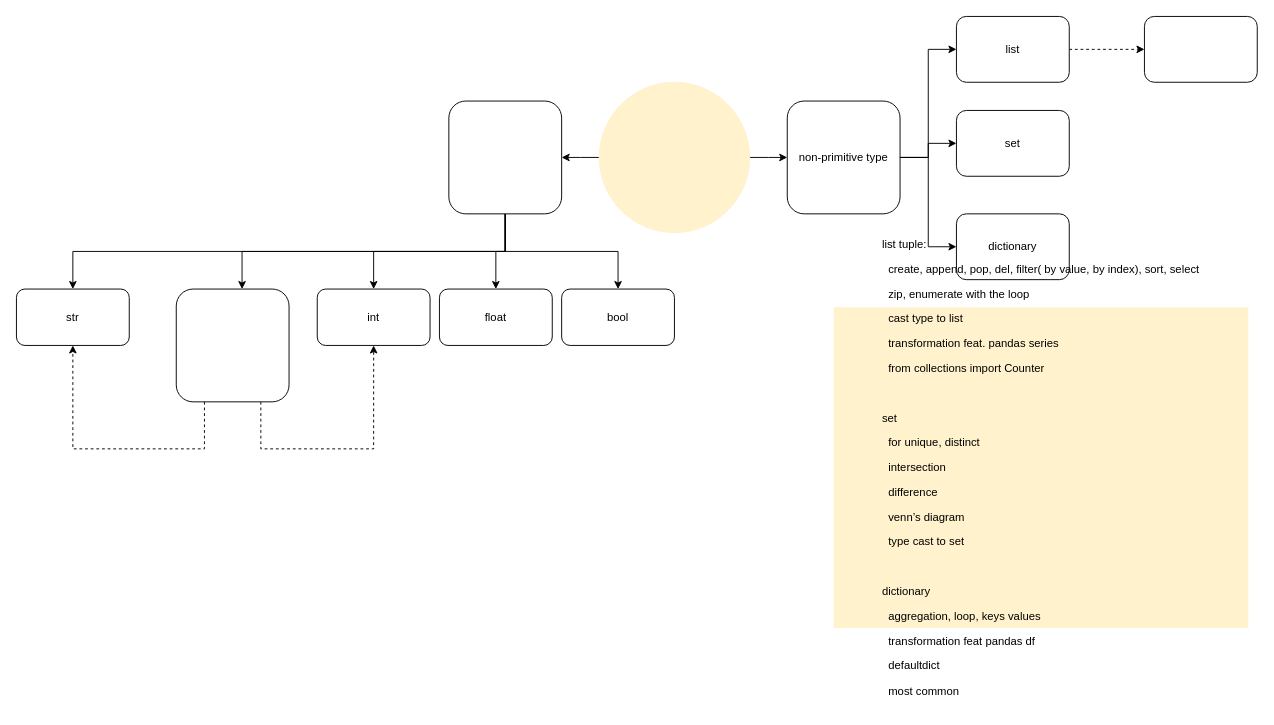
Image size: 1274x725. Some labels were removed from this diagram. The shapes that lost their labels are listed below. From the top down, each one's box as (x1, y1, x2, y2) in pixels, then its label:
(1144, 16, 1257, 82): tuple
(448, 100, 562, 214): primitive type
(598, 81, 750, 233): python data structure / data type
(175, 288, 289, 402): datetime strf / strp timedelta timestamp unixtimestamp
